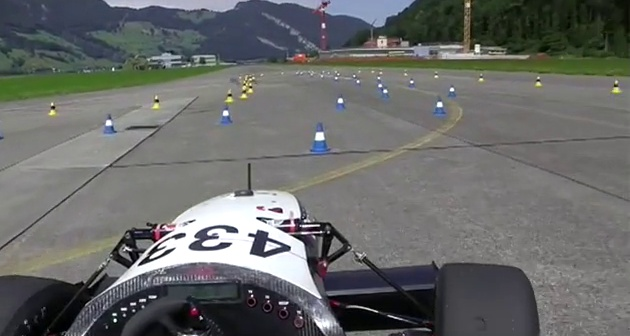Cone: (309, 121, 334, 154), (102, 112, 119, 137), (432, 94, 448, 114), (218, 104, 233, 124), (335, 92, 348, 109), (152, 92, 163, 111), (224, 88, 236, 104), (48, 100, 59, 117), (611, 78, 623, 93)
